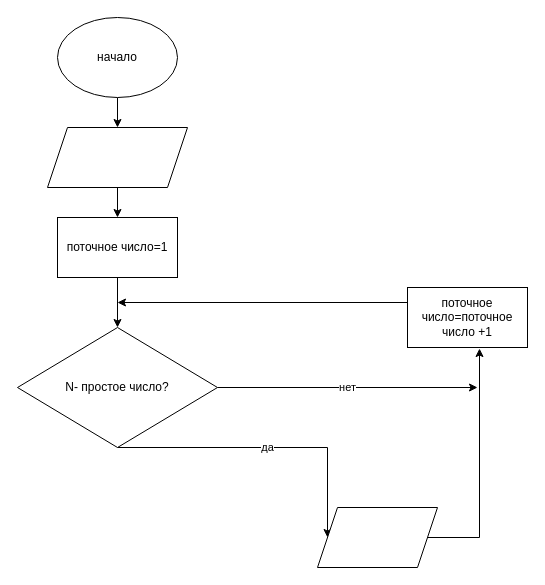
The diagram is 545 pixels wide and 585 high, and some of its shapes have lost their labels. The box of each missing label's shape, as (x1, y1, x2, y2) in pixels:
ввод натурального числа N: (46, 126, 188, 188)
вывести число N: (316, 506, 438, 568)
